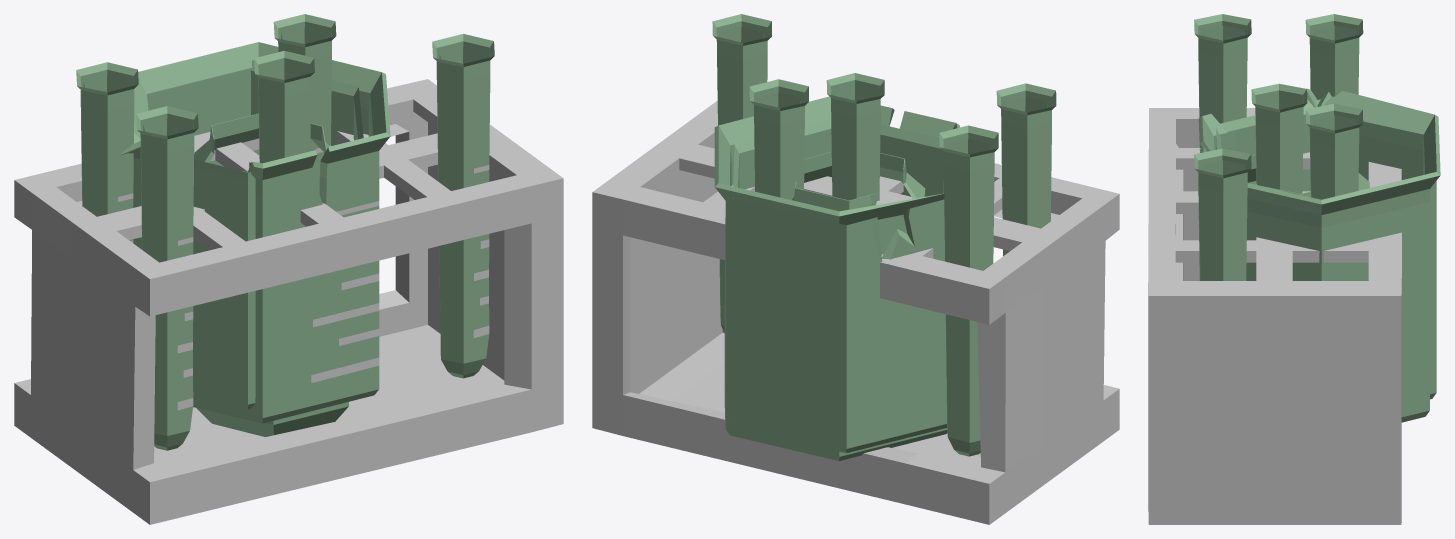
File: broken_glass.fbx
3 renders of one model, left to right at view 1: azimuth 30°, elevation 25°; view 2: azimuth 150°, elevation 25°; view 3: azimuth 270°, elevation 25°, orthographic. The views are drawn at different scales.
Parts seen in each view (by area): view 1: test_tube_rack, cracked_beaker, cracked_jar, test tube, cracked_bottle; view 2: test_tube_rack, cracked_jar, cracked_beaker, test tube, cracked_bottle; view 3: test_tube_rack, cracked_beaker, test tube, cracked_jar, cracked_bottle.
Part boxes in pixels (left/top/right/bottom): test_tube_rack: left=14, top=14, right=563, bottom=524; cracked_beaker: left=119, top=42, right=390, bottom=423; cracked_jar: left=133, top=60, right=363, bottom=409; test tube: left=254, top=50, right=314, bottom=163; cracked_bottle: left=194, top=113, right=348, bottom=436; test_tube_rack: left=592, top=14, right=1119, bottom=524; cracked_jar: left=732, top=118, right=947, bottom=453; cracked_beaker: left=714, top=96, right=959, bottom=460; test tube: left=826, top=73, right=884, bottom=200; cracked_bottle: left=792, top=151, right=925, bottom=211; test_tube_rack: left=1148, top=14, right=1401, bottom=524; cracked_beaker: left=1198, top=88, right=1440, bottom=422; test tube: left=1251, top=83, right=1307, bottom=193; cracked_jar: left=1216, top=99, right=1436, bottom=399; cracked_bottle: left=1247, top=154, right=1369, bottom=197.
Bounding box in the file's own units: 352 × 294 × 231.
